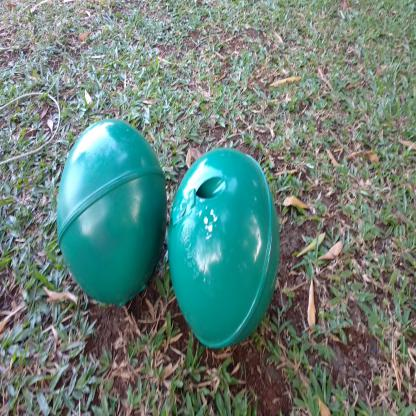green_buoy: (168, 150, 282, 350), (57, 114, 166, 304)
